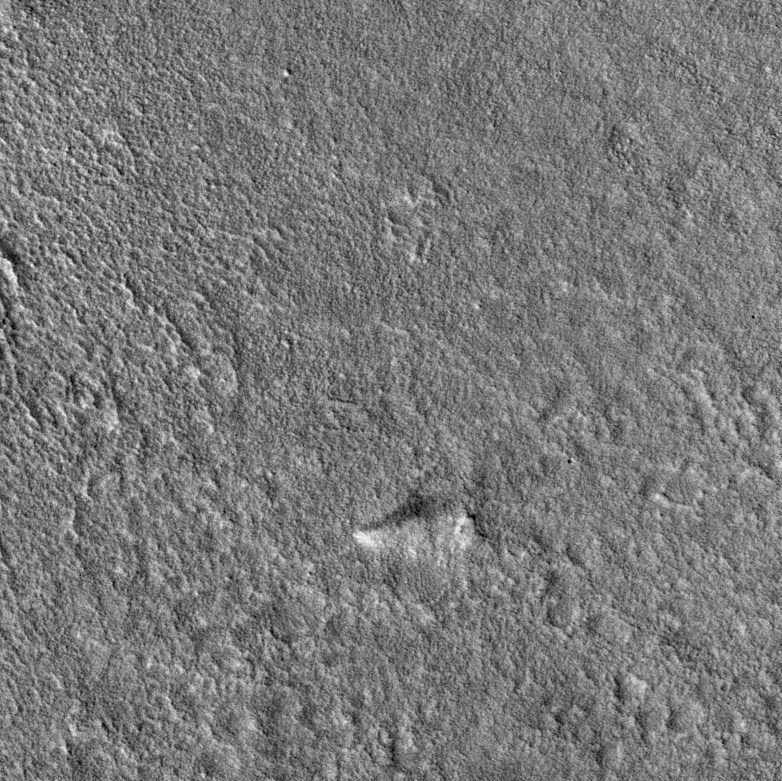dust_devil: (351, 490, 458, 550)
